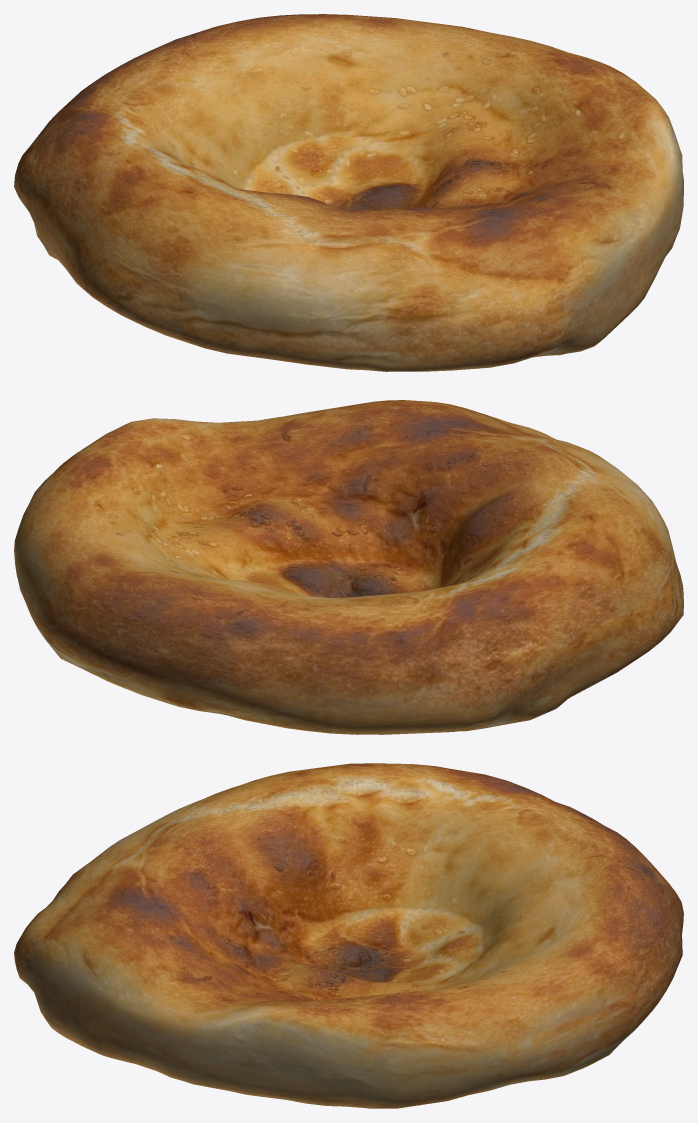
The model's file is naan.glb.
The picture shows the model from 3 angles, top to bottom: view 1: azimuth 30°, elevation 25°; view 2: azimuth 150°, elevation 25°; view 3: azimuth 270°, elevation 25°; orthographic projection. The views are drawn at different scales.
Parts seen in each view (by area): view 1: naan; view 2: naan; view 3: naan.
Part boxes in pixels (bbox=[...]): naan: bbox=[14, 14, 683, 371]; naan: bbox=[14, 400, 683, 734]; naan: bbox=[14, 763, 683, 1108].
Size of the model in its own units: 0.2205 by 0.0505 by 0.2296.
Materials: 1 (1 with a texture image).
